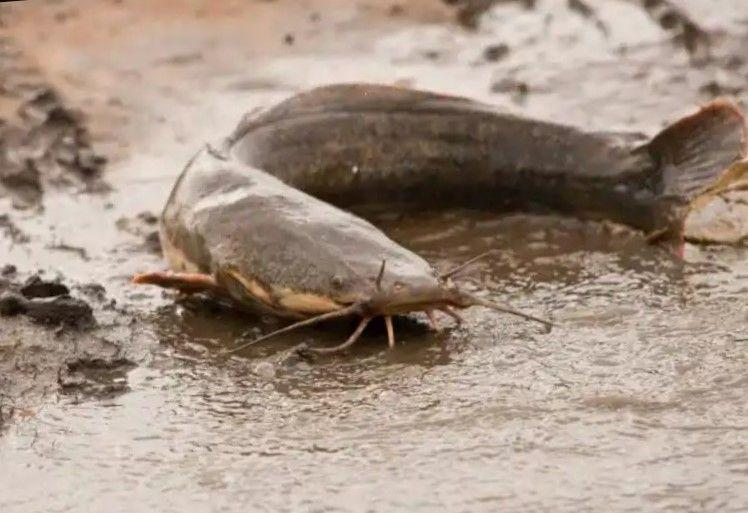Catfish: (132, 81, 748, 364)
